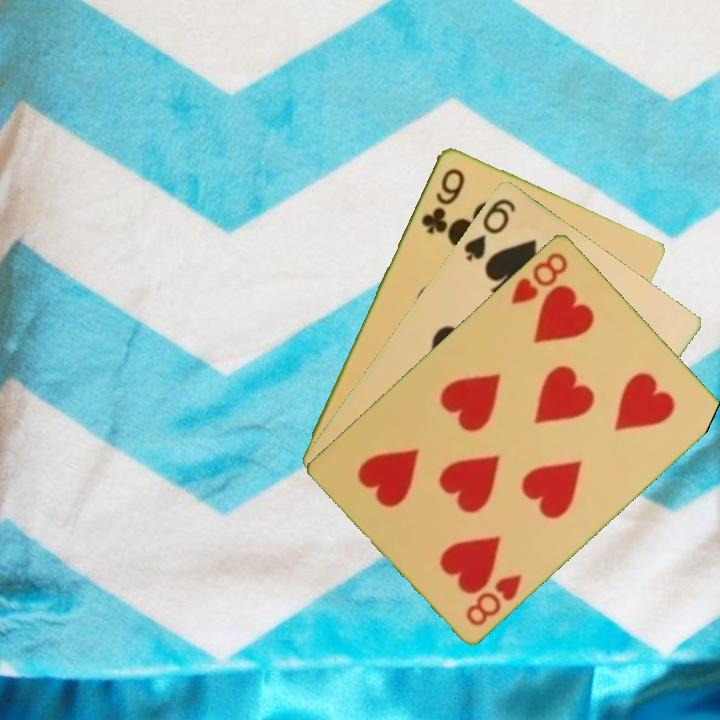6s: (460, 194, 518, 264)
8h: (462, 569, 525, 629), (507, 248, 571, 307)
9c: (417, 164, 468, 237)
